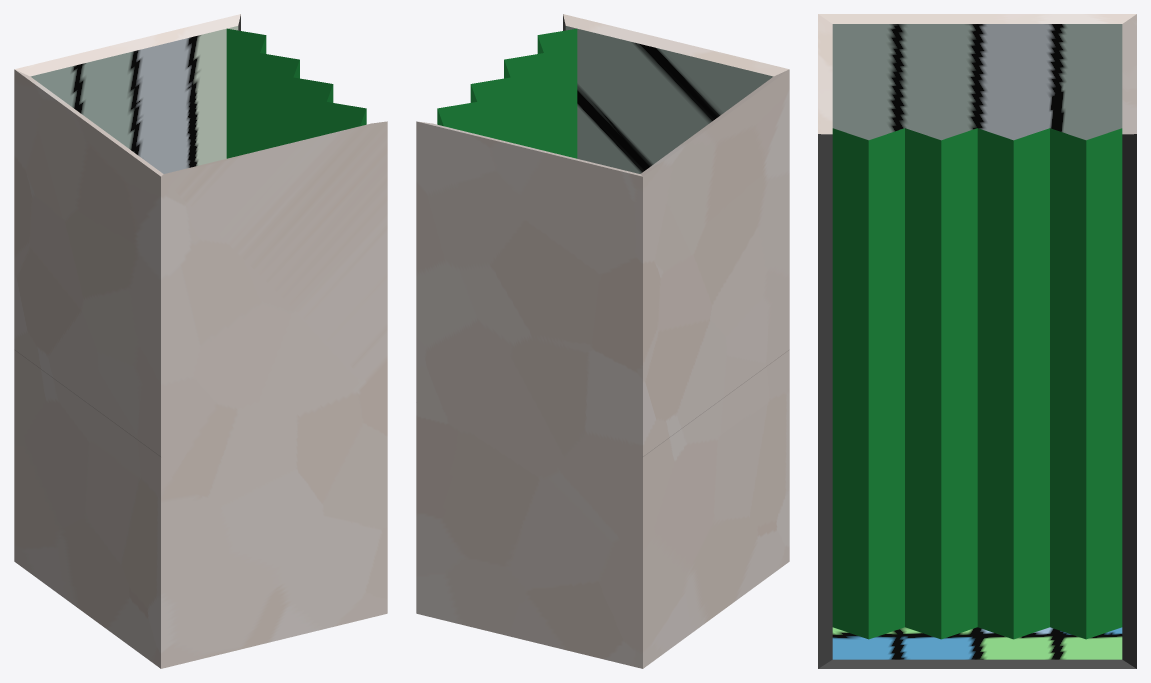
File: shower.glb
The picture shows the model from 3 angles, left to right: view 1: azimuth 30°, elevation 25°; view 2: azimuth 150°, elevation 25°; view 3: azimuth 270°, elevation 25°; orthographic projection. The views are drawn at different scales.
Parts seen in each view (by area): view 1: Shower; view 2: Shower; view 3: Shower.
Part boxes in pixels (bbox=[...]): Shower: bbox=[14, 14, 387, 668]; Shower: bbox=[416, 14, 789, 668]; Shower: bbox=[818, 14, 1136, 668].
Size of the model in its own units: 0.9904 by 2.04 by 1.1.
Materials: 5 (3 with a texture image).
